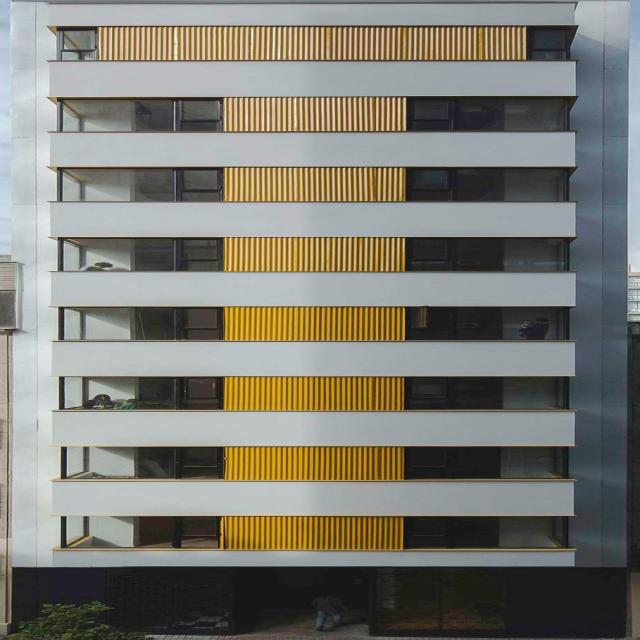wall: (33, 2, 580, 640)
windows: (408, 377, 572, 412), (58, 99, 225, 133), (409, 238, 576, 272), (411, 168, 575, 202), (63, 378, 226, 412), (410, 99, 577, 132), (66, 238, 227, 272), (65, 308, 225, 342), (61, 169, 224, 202), (408, 517, 570, 550), (408, 447, 570, 479), (66, 448, 226, 480), (65, 518, 224, 550), (412, 309, 571, 340), (533, 28, 579, 60), (62, 28, 100, 62)
